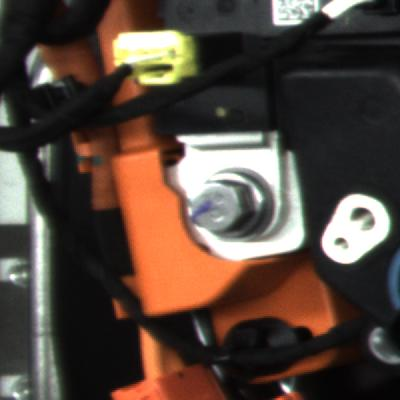nut_b: (174, 154, 282, 249)
